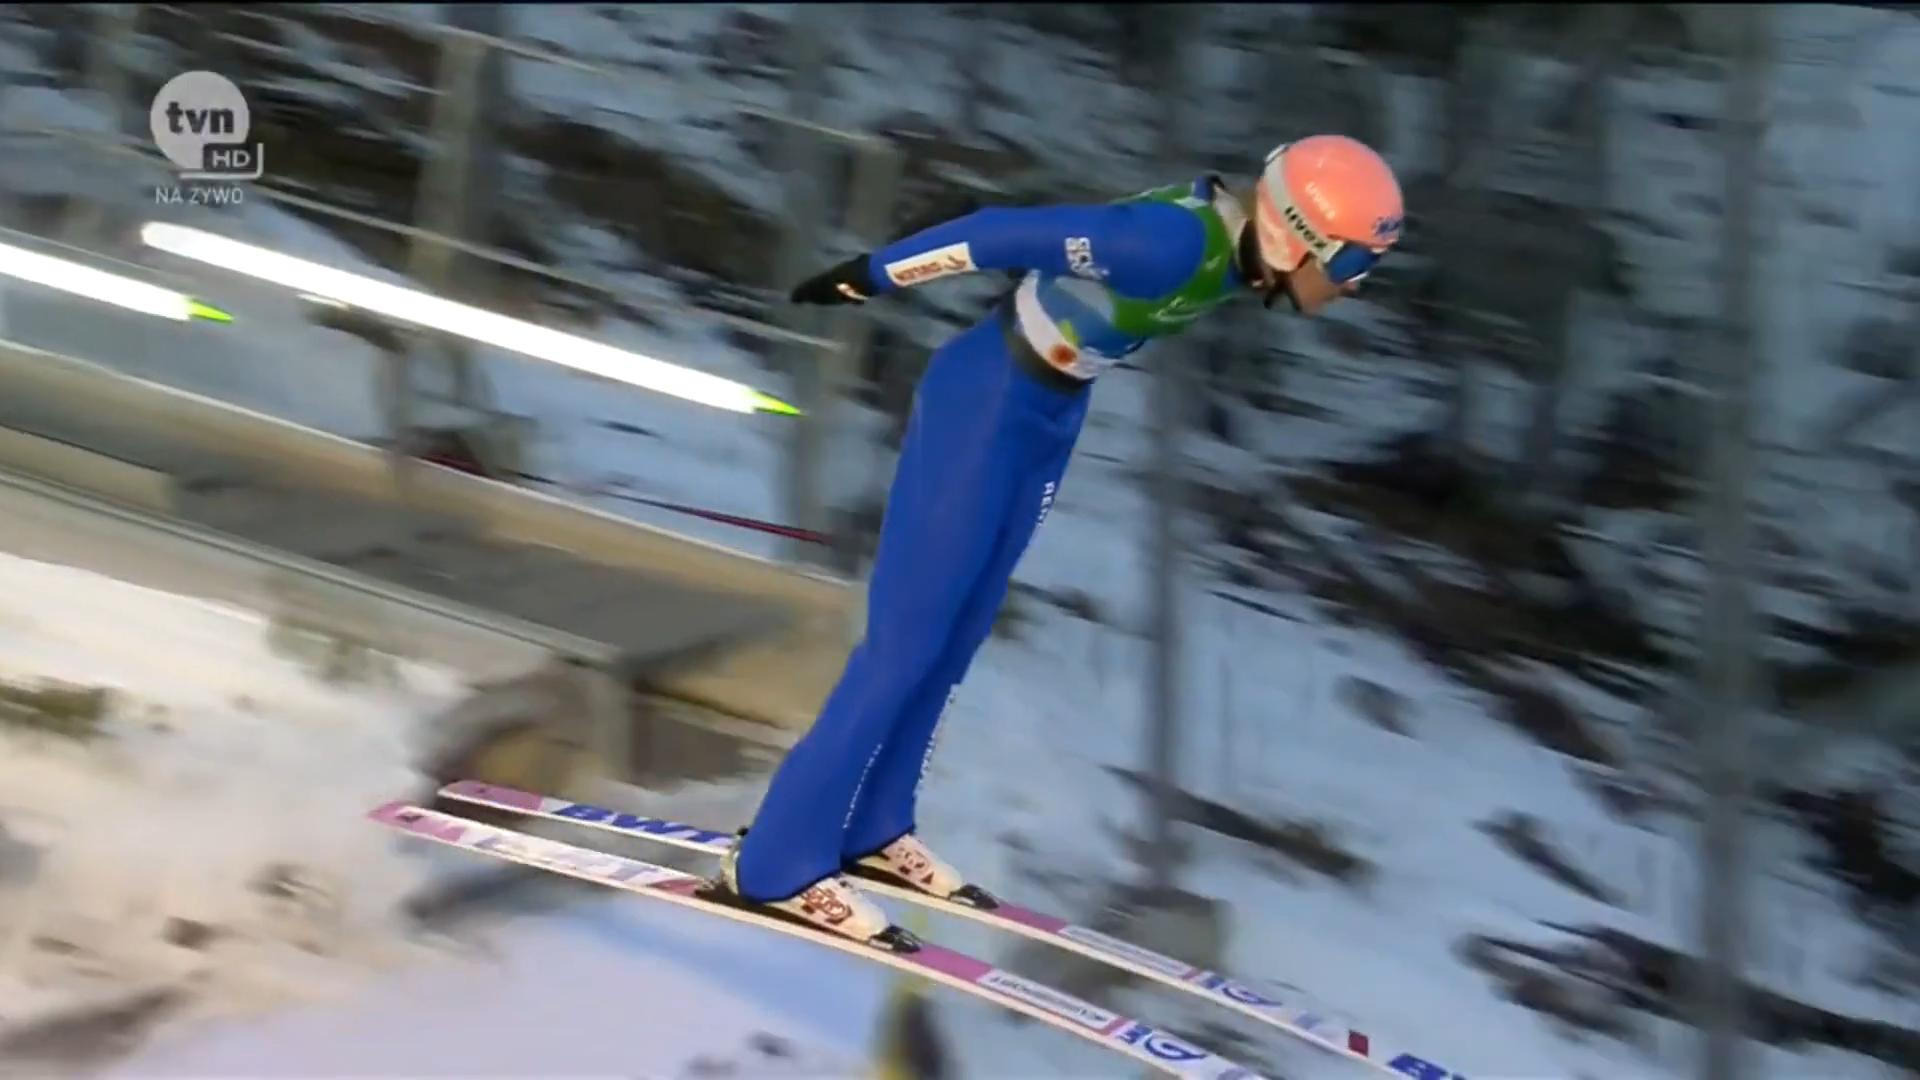prog: (484, 611, 790, 713)
